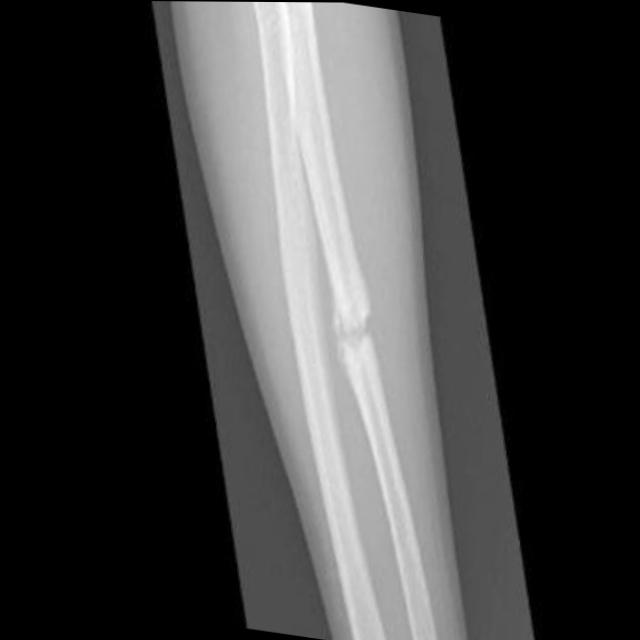fracture: (312, 273, 383, 385)
